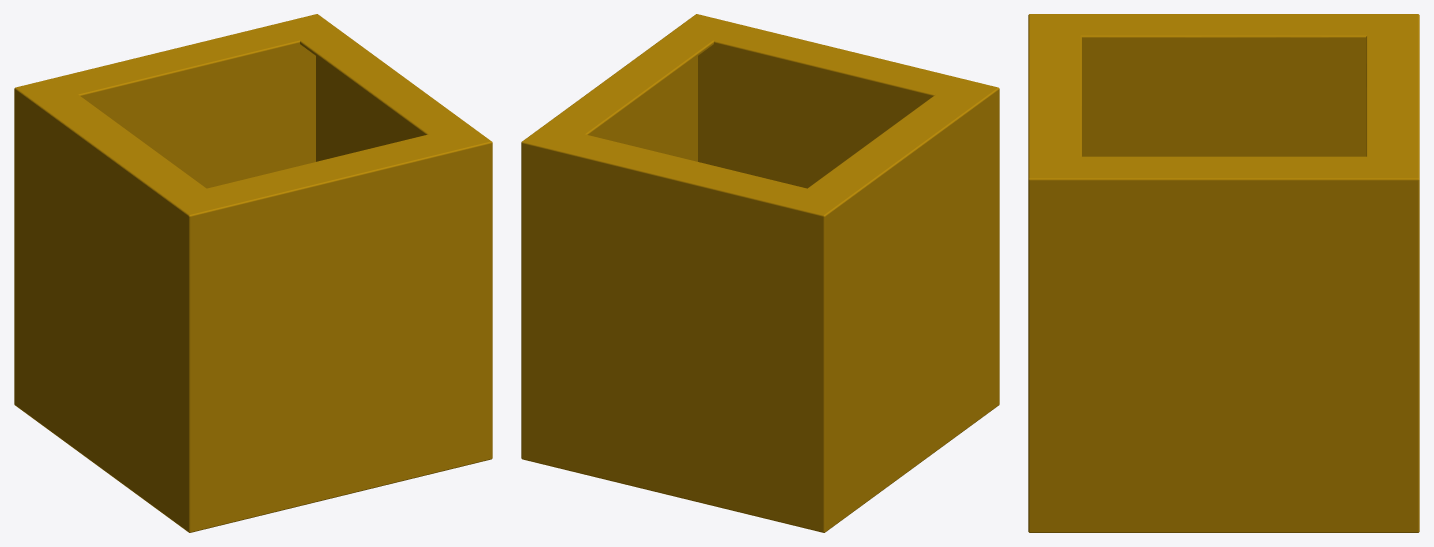
Rendered from yellow_box.dae.
3 renders of one model, left to right at view 1: azimuth 30°, elevation 25°; view 2: azimuth 150°, elevation 25°; view 3: azimuth 270°, elevation 25°, orthographic. The views are drawn at different scales.
Parts seen in each view (by area): view 1: yellow box; view 2: yellow box; view 3: yellow box.
Part boxes in pixels (box(x1,y1,x2,y2)): yellow box: box(14, 14, 492, 532); yellow box: box(521, 14, 999, 532); yellow box: box(1028, 14, 1419, 532).
Bounding box in the file's own units: 0.207 × 0.207 × 0.207.
